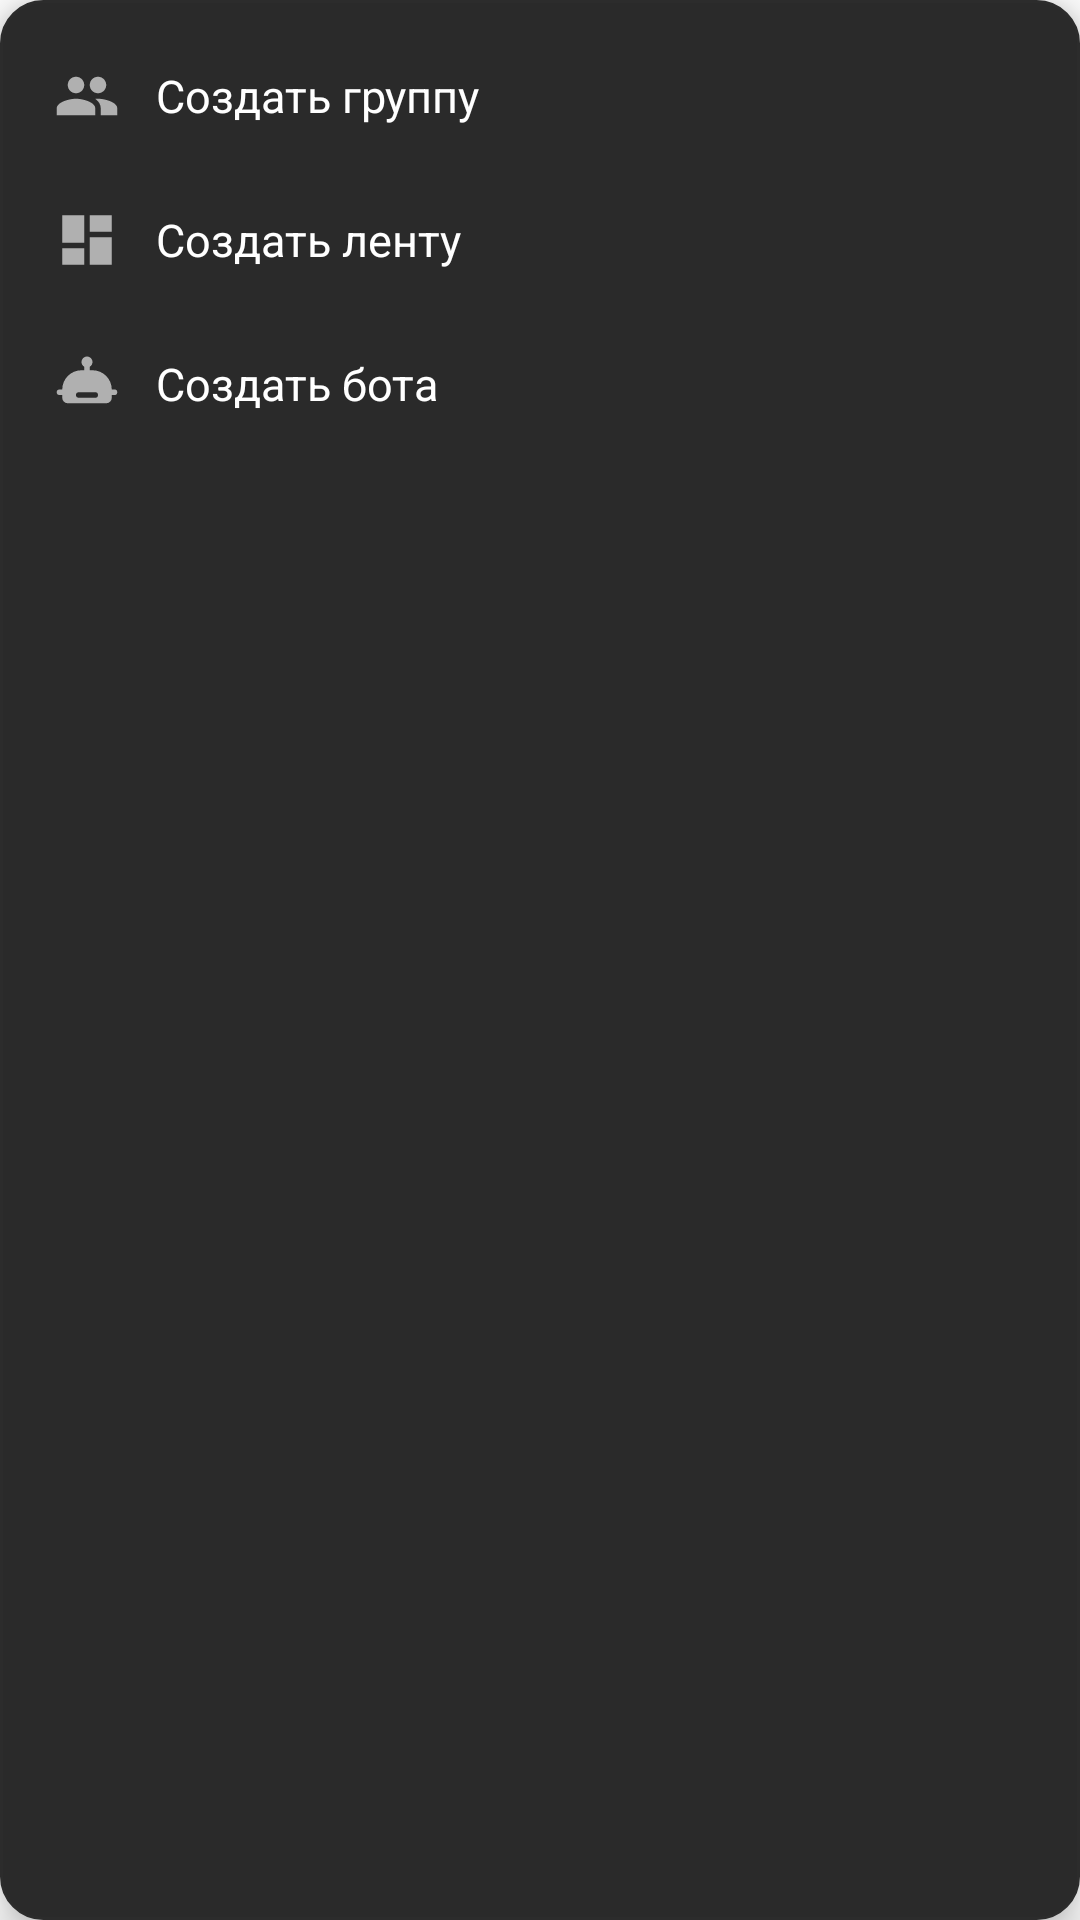

Point at icon controls on the screen. Image size 1080px×1920px, points as [x,y].
bot: [87,380]
feed: [87,240]
